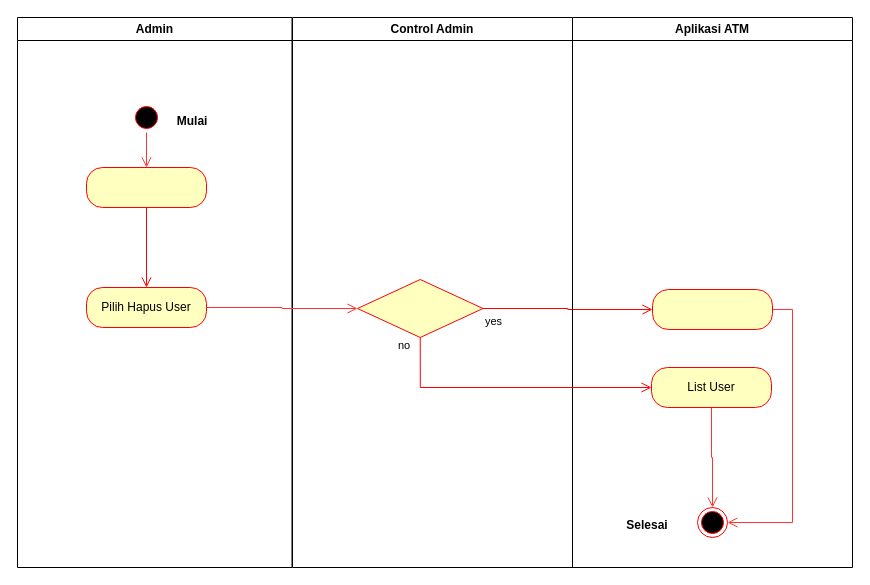
The diagram is 870 pixels wide and 585 high, and some of its shapes have lost their labels. Here are the shapes that lost their labels. From the top down, the centre of each, then its label:
(146,187): Pilih NPP
(419,308): delete user
(712,309): User terhapus
